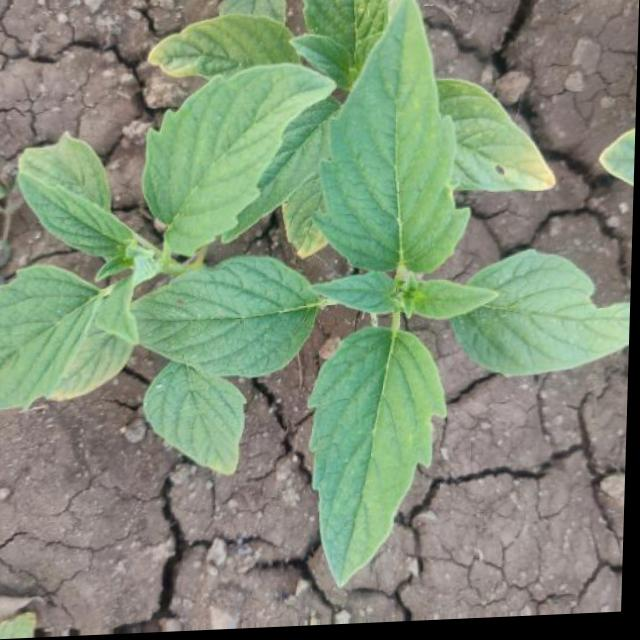crop: (5, 0, 612, 597)
